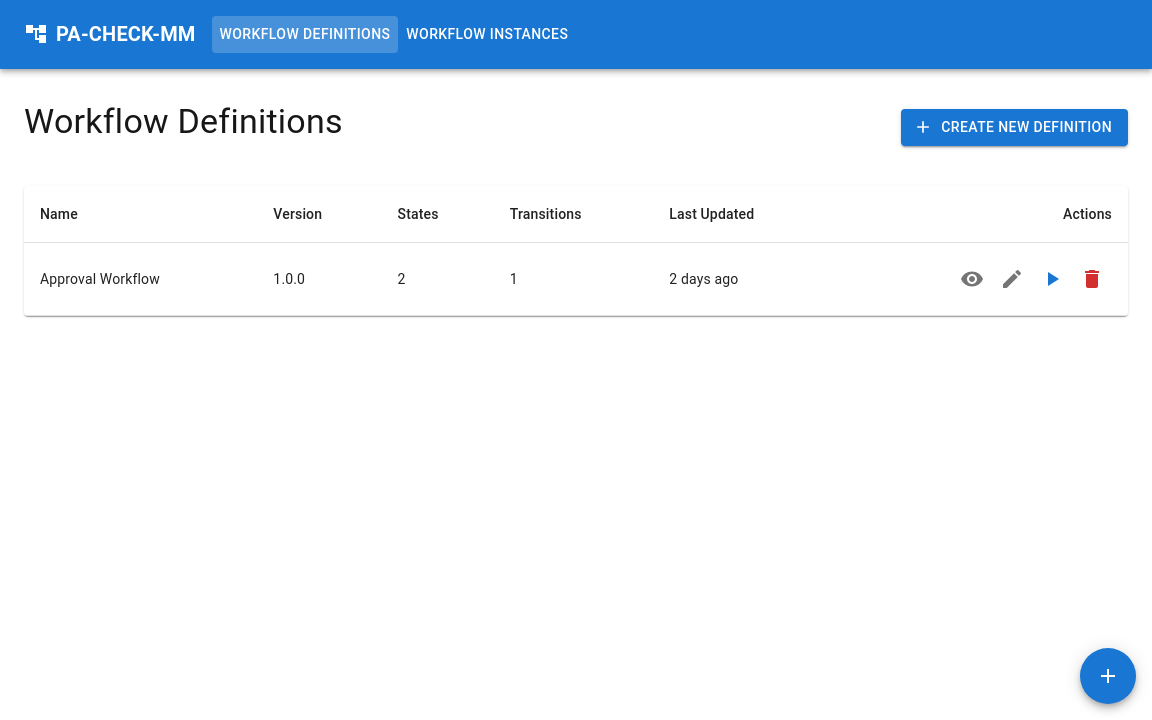
it: WorkflowDefinitionsPage › shows delete confirmation dialog when delete button is clicked
The width and height of the screenshot is (1152, 720).
Click the button named "Delete": click(1092, 279) top-left (1072, 259), bottom-right (1112, 299)
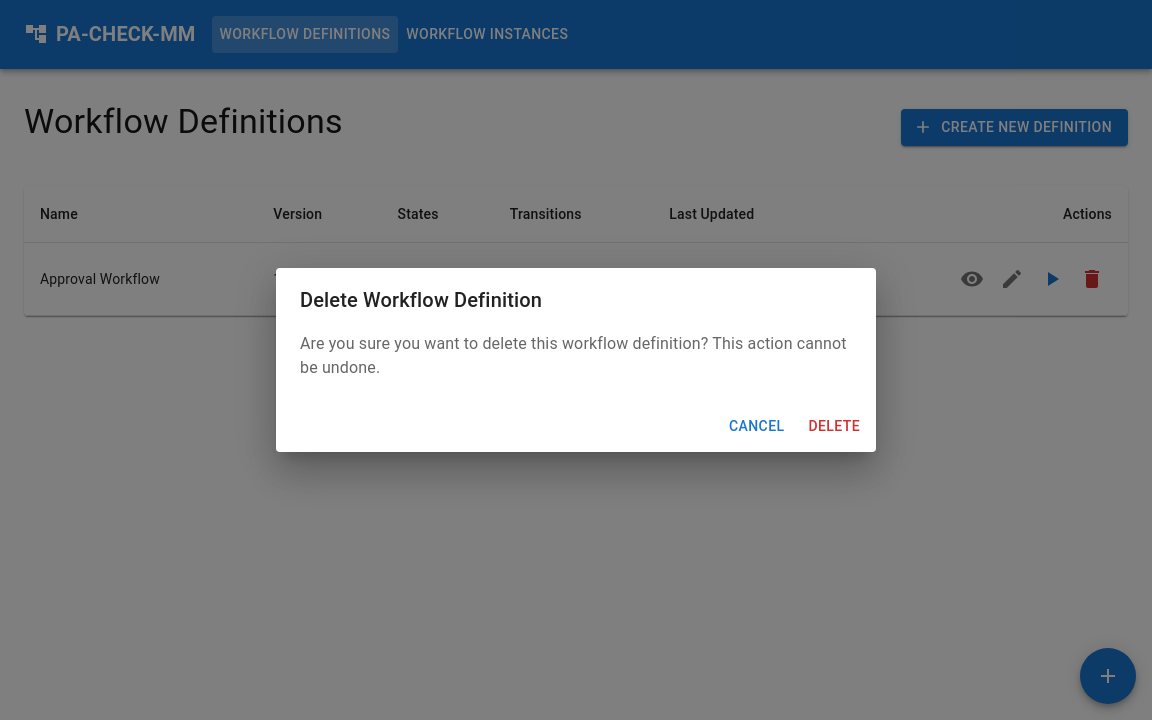
Check: the heading "Delete Workflow Definition" is shown, box top-left (300, 288), bottom-right (542, 312)
Check: the text "Are you sure you want to delete this workflow definition? This action cannot be undone." is shown, box top-left (300, 334), bottom-right (847, 377)
